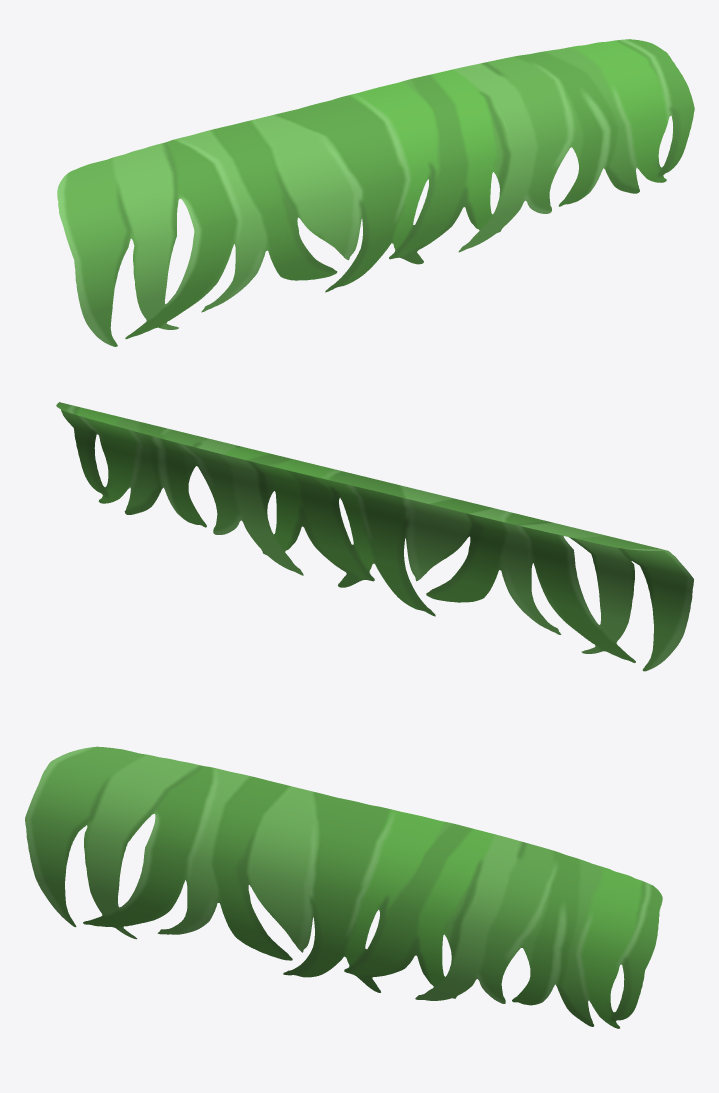
The model's file is BordePlant.fbx.
3 renders of one model, top to bottom at view 1: azimuth 30°, elevation 25°; view 2: azimuth 150°, elevation 25°; view 3: azimuth 330°, elevation 25°, orthographic.
Parts seen in each view (by area): view 1: BordePlant; view 2: BordePlant; view 3: BordePlant.
Boxes of the visible parts, x1=… form: BordePlant: x1=57, y1=39, x2=694, y2=346; BordePlant: x1=56, y1=402, x2=693, y2=671; BordePlant: x1=25, y1=746, x2=662, y2=1028.
Bounding box in the file's own units: 1012 × 250 × 135.
Materials: 1 (1 with a texture image).
